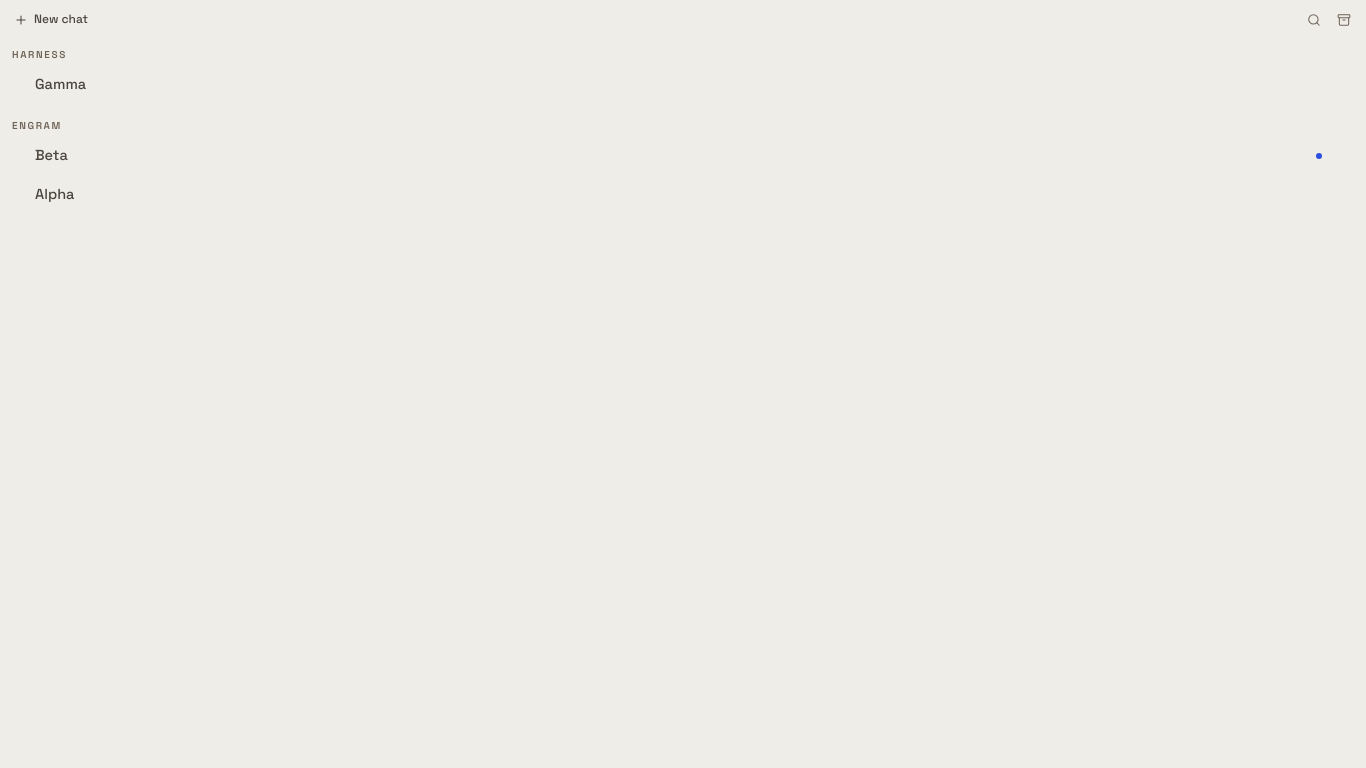
Test: SessionList › asks before a bulk delete, naming the count, then removes each selected id
The width and height of the screenshot is (1366, 768).
Expected: the text "Alpha" is shown, 35,185 -> 74,203
Click the checkbox named "Select Alpha": (683, 194) 8,176 -> 1358,213
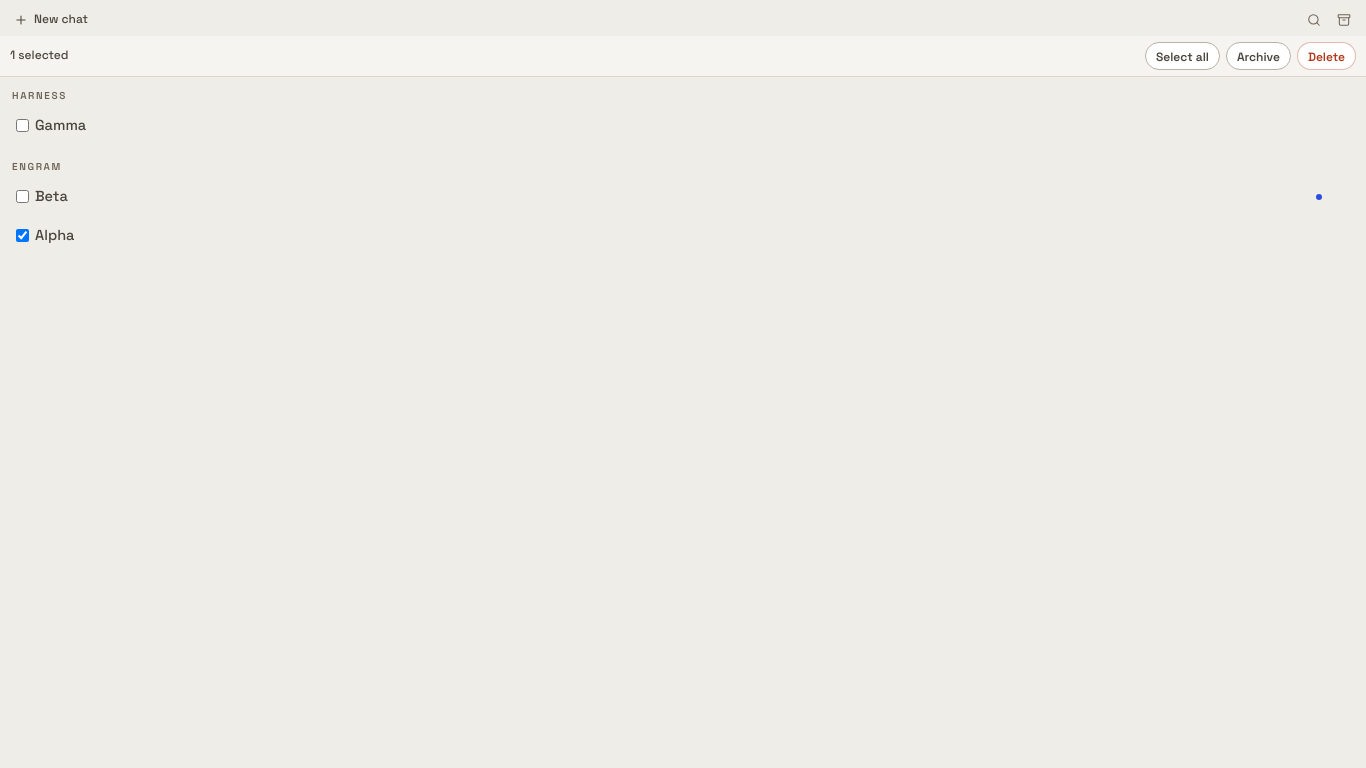
Click the checkbox named "Select Gamma": (22, 126) 16,119 -> 29,132
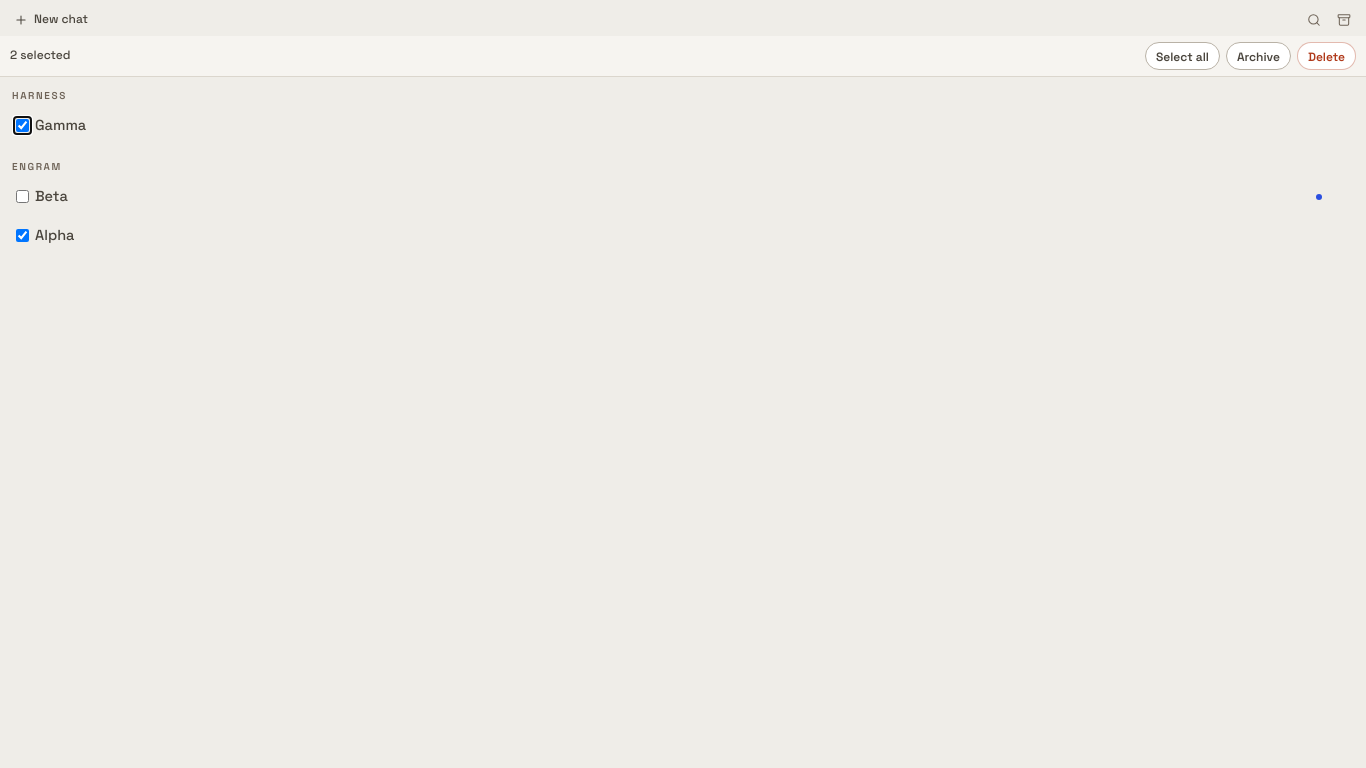
Click the button "Delete": (1326, 56) 1297,42 -> 1356,70
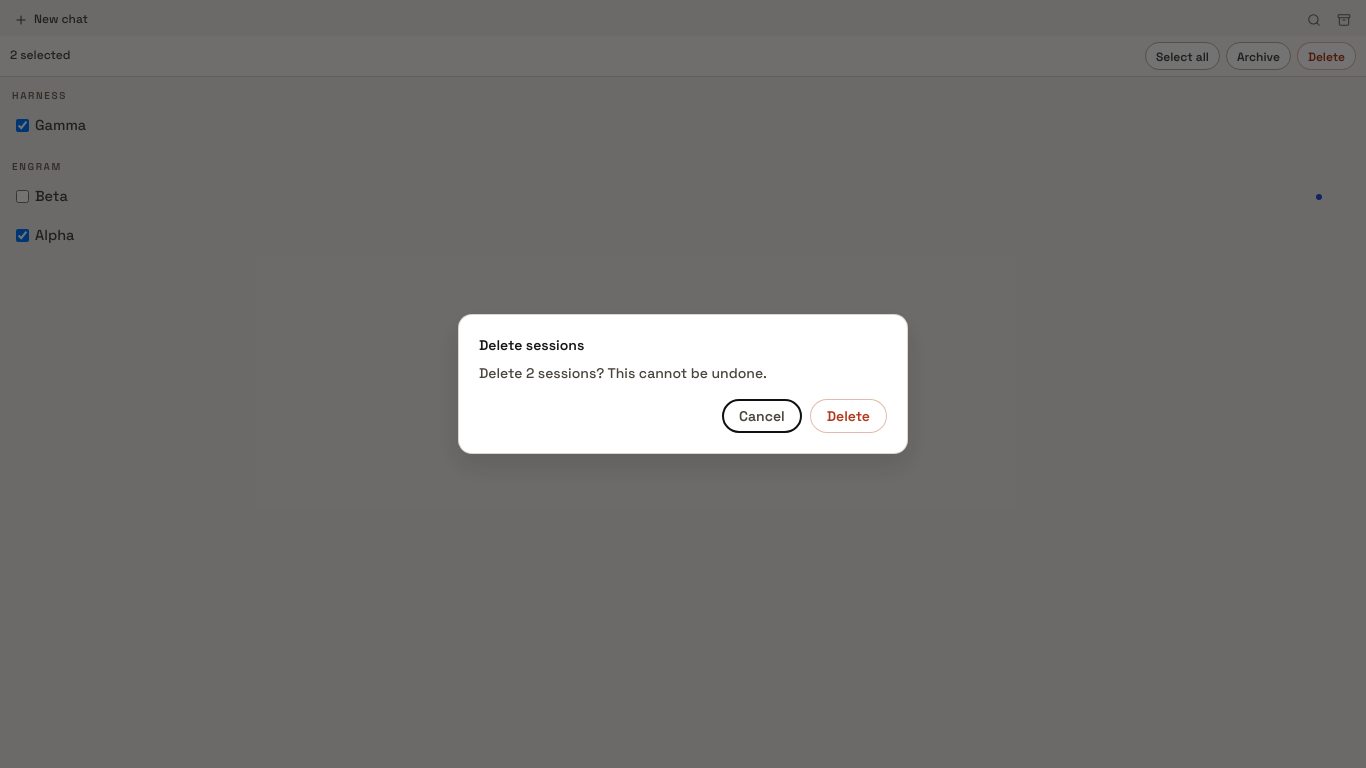
Result: the text "Delete 2 sessions? This cannot be undone." is shown at 479,364 -> 767,382
Click the button "Delete": (848, 416) 810,399 -> 887,433
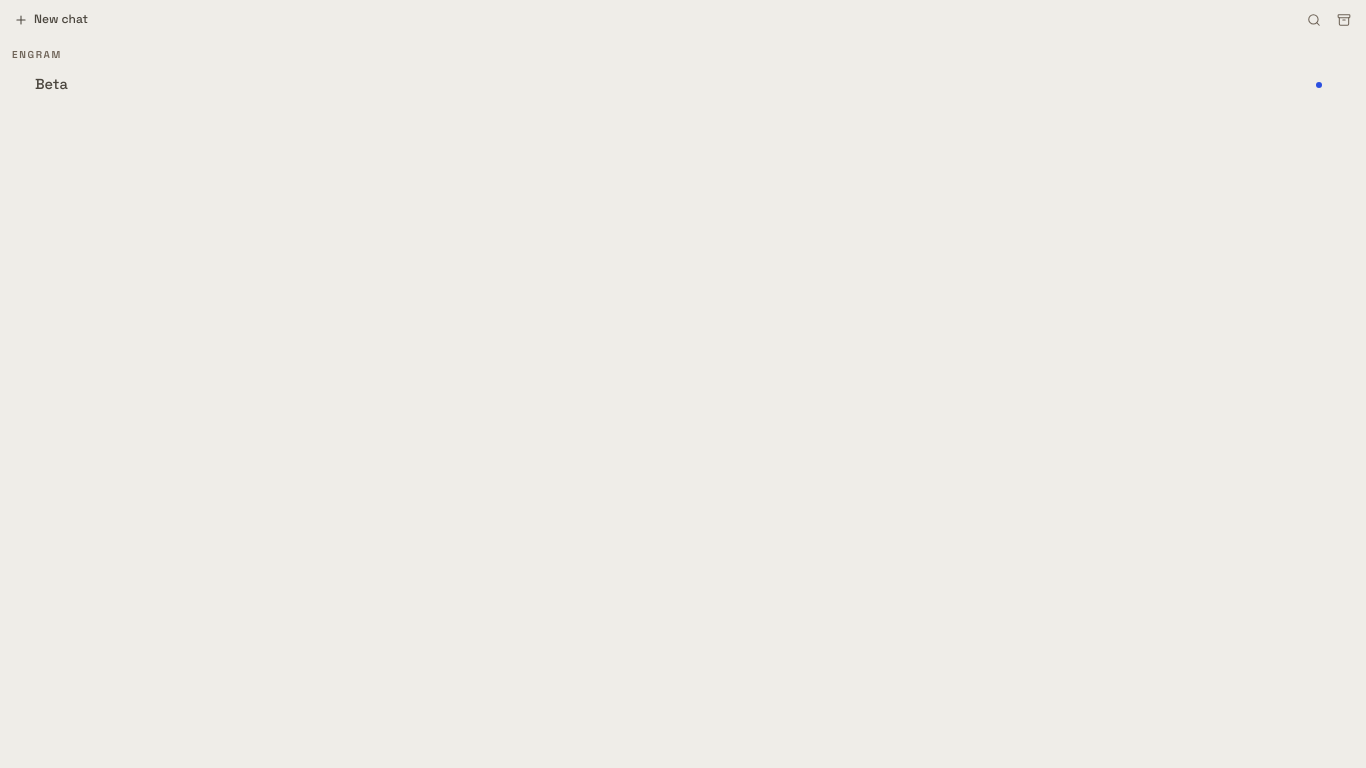
Expected: the text "Beta" is shown, 35,75 -> 68,93
Result: the button "Alpha" is gone
Result: the button "Gamma" is gone
